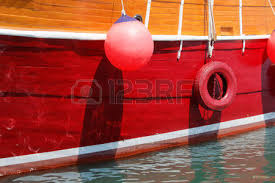buoy: (105, 21, 155, 71)
